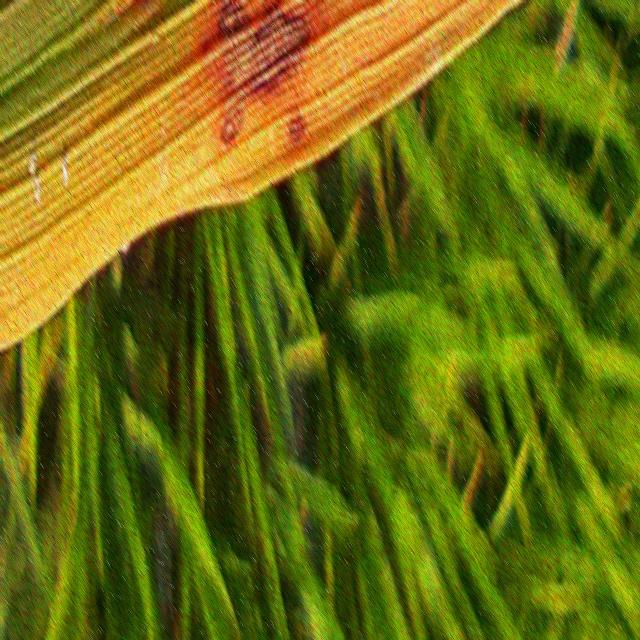LEAF BLAST: (216, 0, 310, 146)
